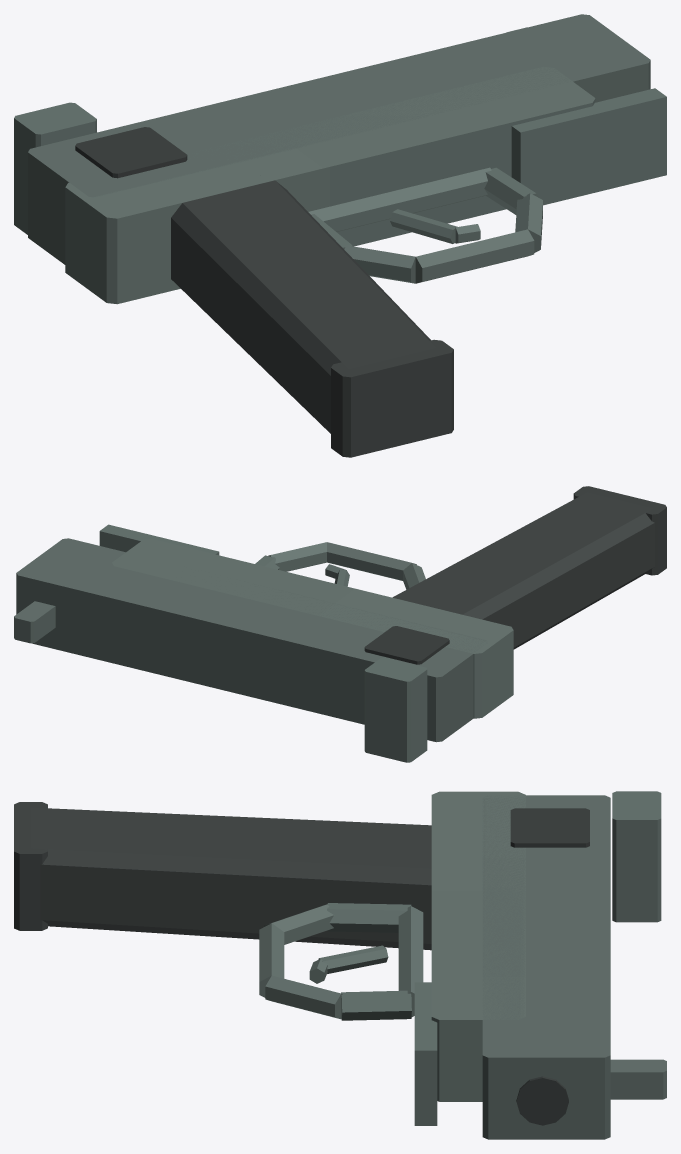
Rendered from weapon-glock-43x.glb.
3 renders of one model, top to bottom at view 1: azimuth 30°, elevation 25°; view 2: azimuth 150°, elevation 25°; view 3: azimuth 270°, elevation 25°, orthographic. The views are drawn at different scales.
Parts seen in each view (by area): view 1: weapon-glock-43x/lower-frame, weapon-glock-43x/flat-slide, weapon-glock-43x/eight-sided-grip, weapon-glock-43x/visible-front-lower-rail, weapon-glock-43x/eight-sided-grip-heel, weapon-glock-43x/hollow-trigger-guard-1, weapon-glock-43x/rear-sight, weapon-glock-43x/slide-rear-serrations-left, weapon-glock-43x/hollow-trigger-guard-4, weapon-glock-43x/hollow-trigger-guard-5, weapon-glock-43x/hollow-trigger-guard-2, weapon-glock-43x/hollow-trigger-guard-trigger-1 (+1 smaller); view 2: weapon-glock-43x/flat-slide, weapon-glock-43x/eight-sided-grip, weapon-glock-43x/lower-frame, weapon-glock-43x/rear-sight, weapon-glock-43x/slide-rear-serrations-left, weapon-glock-43x/hollow-trigger-guard-4, weapon-glock-43x/eight-sided-grip-heel, weapon-glock-43x/front-sight, weapon-glock-43x/visible-front-lower-rail, weapon-glock-43x/hollow-trigger-guard-3, weapon-glock-43x/hollow-trigger-guard-5; view 3: weapon-glock-43x/eight-sided-grip, weapon-glock-43x/flat-slide, weapon-glock-43x/lower-frame, weapon-glock-43x/rear-sight, weapon-glock-43x/eight-sided-grip-heel, weapon-glock-43x/visible-front-lower-rail, weapon-glock-43x/slide-rear-serrations-left, weapon-glock-43x/front-sight, weapon-glock-43x/hollow-trigger-guard-1, weapon-glock-43x/hollow-trigger-guard-6, weapon-glock-43x/hollow-trigger-guard-2, weapon-glock-43x/muzzle-dark-disc (+4 smaller).
Boxes of the visible parts, left/top/right/bottom form: weapon-glock-43x/lower-frame: left=65, top=67, right=595, bottom=304; weapon-glock-43x/flat-slide: left=28, top=14, right=650, bottom=264; weapon-glock-43x/eight-sided-grip: left=171, top=180, right=435, bottom=433; weapon-glock-43x/visible-front-lower-rail: left=511, top=88, right=666, bottom=205; weapon-glock-43x/eight-sided-grip-heel: left=331, top=339, right=453, bottom=457; weapon-glock-43x/hollow-trigger-guard-1: left=308, top=167, right=491, bottom=231; weapon-glock-43x/rear-sight: left=14, top=102, right=96, bottom=234; weapon-glock-43x/slide-rear-serrations-left: left=75, top=127, right=187, bottom=178; weapon-glock-43x/hollow-trigger-guard-4: left=415, top=229, right=534, bottom=283; weapon-glock-43x/hollow-trigger-guard-5: left=344, top=245, right=415, bottom=283; weapon-glock-43x/hollow-trigger-guard-2: left=484, top=167, right=538, bottom=214; weapon-glock-43x/hollow-trigger-guard-trigger-1: left=390, top=209, right=457, bottom=243; weapon-glock-43x/flat-slide: left=16, top=538, right=487, bottom=742; weapon-glock-43x/eight-sided-grip: left=392, top=492, right=654, bottom=649; weapon-glock-43x/lower-frame: left=112, top=539, right=513, bottom=718; weapon-glock-43x/rear-sight: left=364, top=657, right=427, bottom=762; weapon-glock-43x/slide-rear-serrations-left: left=364, top=626, right=449, bottom=664; weapon-glock-43x/hollow-trigger-guard-4: left=327, top=542, right=416, bottom=580; weapon-glock-43x/eight-sided-grip-heel: left=573, top=486, right=666, bottom=575; weapon-glock-43x/front-sight: left=14, top=601, right=55, bottom=643; weapon-glock-43x/visible-front-lower-rail: left=99, top=524, right=219, bottom=555; weapon-glock-43x/hollow-trigger-guard-3: left=268, top=542, right=326, bottom=571; weapon-glock-43x/hollow-trigger-guard-5: left=403, top=563, right=425, bottom=589; weapon-glock-43x/eight-sided-grip: left=31, top=807, right=431, bottom=950; weapon-glock-43x/flat-slide: left=482, top=795, right=610, bottom=1139; weapon-glock-43x/lower-frame: left=431, top=791, right=525, bottom=1101; weapon-glock-43x/rear-sight: left=612, top=791, right=661, bottom=922; weapon-glock-43x/eight-sided-grip-heel: left=14, top=802, right=47, bottom=930; weapon-glock-43x/visible-front-lower-rail: left=414, top=982, right=437, bottom=1125; weapon-glock-43x/slide-rear-serrations-left: left=510, top=808, right=589, bottom=847; weapon-glock-43x/front-sight: left=610, top=1059, right=666, bottom=1099; weapon-glock-43x/hollow-trigger-guard-1: left=398, top=906, right=423, bottom=1016; weapon-glock-43x/hollow-trigger-guard-6: left=327, top=903, right=411, bottom=932; weapon-glock-43x/hollow-trigger-guard-2: left=341, top=990, right=411, bottom=1020; weapon-glock-43x/muzzle-dark-disc: left=516, top=1076, right=568, bottom=1125.
Size of the model in its own units: 0.1693 by 0.03 by 0.1735.
2 materials, 2 textured.
